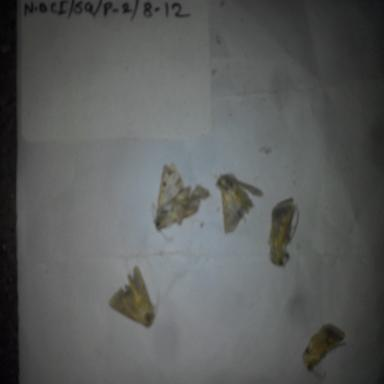abw: (150, 156, 210, 237), (211, 166, 266, 238), (110, 261, 160, 331), (298, 313, 351, 377), (266, 192, 306, 271)
